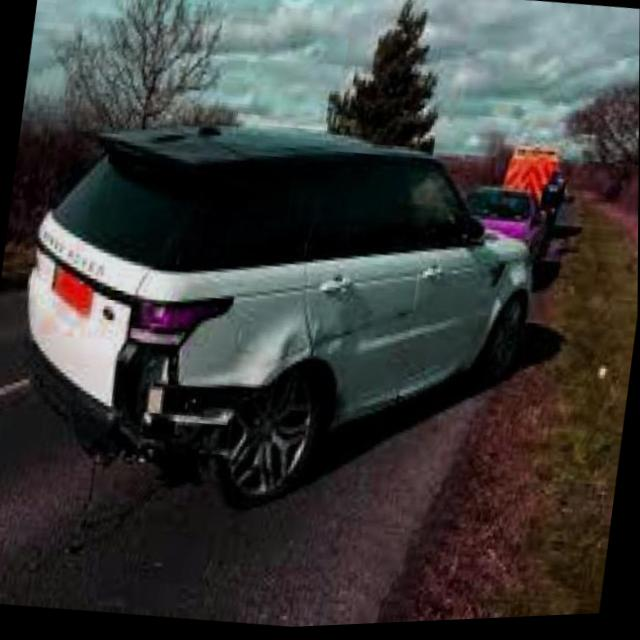Car-Damage: (89, 298, 359, 505)
